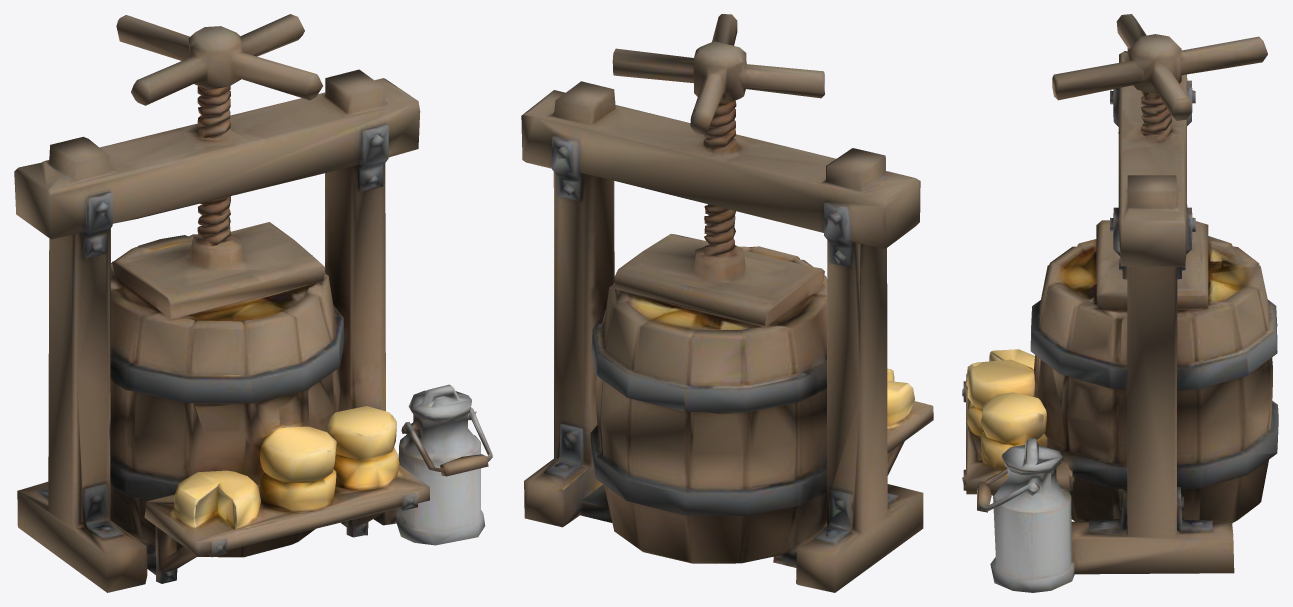
File: nainao-2.glb
3 views of the same model, side by side, from view 1: azimuth 30°, elevation 25°; view 2: azimuth 150°, elevation 25°; view 3: azimuth 270°, elevation 25° (orthographic). The views are drawn at different scales.
Parts seen in each view (by area): view 1: node_0; view 2: node_0; view 3: node_0.
Part boxes in pixels (x1=…): node_0: x1=14, y1=14, x2=492, y2=592; node_0: x1=521, y1=14, x2=933, y2=592; node_0: x1=962, y1=14, x2=1278, y2=592.
Size of the model in its own units: 0.7349 by 0.8953 by 0.555.
1 material, 1 textured.
